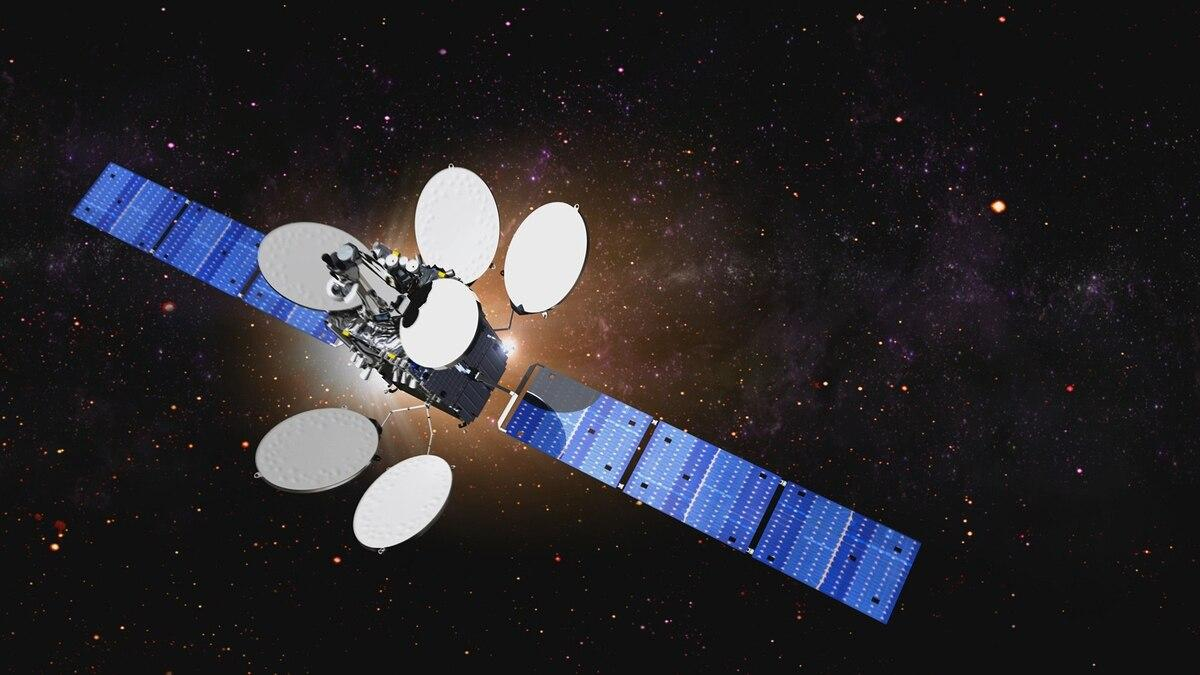antenna: (251, 402, 384, 495), (256, 220, 374, 315), (351, 453, 458, 556), (413, 162, 501, 286), (500, 200, 589, 320), (398, 276, 485, 372)
body: (325, 242, 513, 430)
solar: (504, 364, 924, 627), (69, 159, 340, 346)
thruster: (358, 365, 373, 382), (407, 373, 419, 391), (353, 356, 364, 369), (349, 350, 359, 364), (392, 366, 400, 383), (400, 371, 408, 386)
